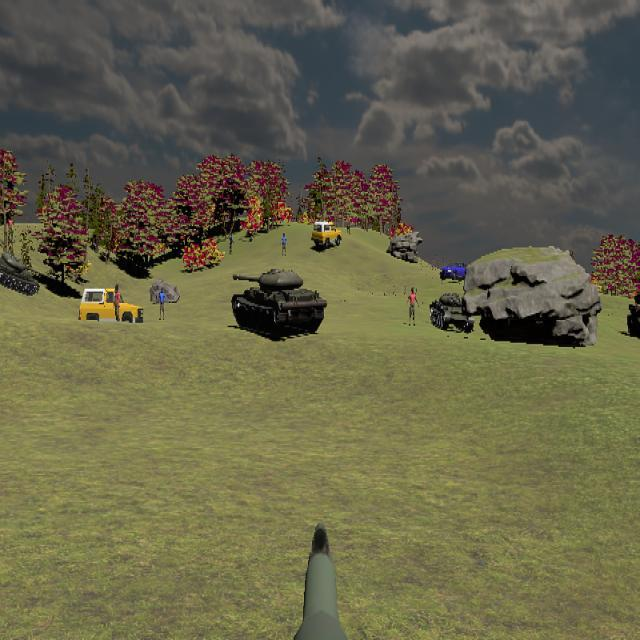Human: (406, 286, 419, 326)
Tank: (231, 268, 328, 338), (0, 252, 53, 296), (430, 291, 474, 334)
car: (79, 288, 144, 333), (311, 221, 342, 249)
